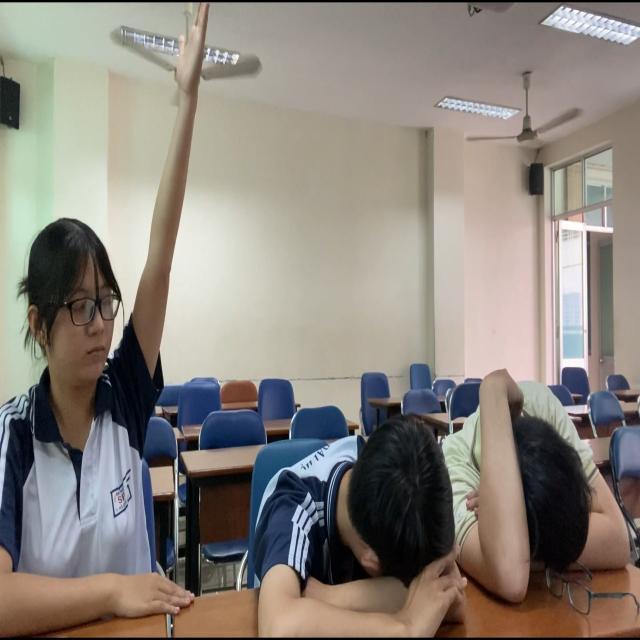raise_hand: (1, 5, 217, 640)
sleep: (235, 420, 500, 640)
